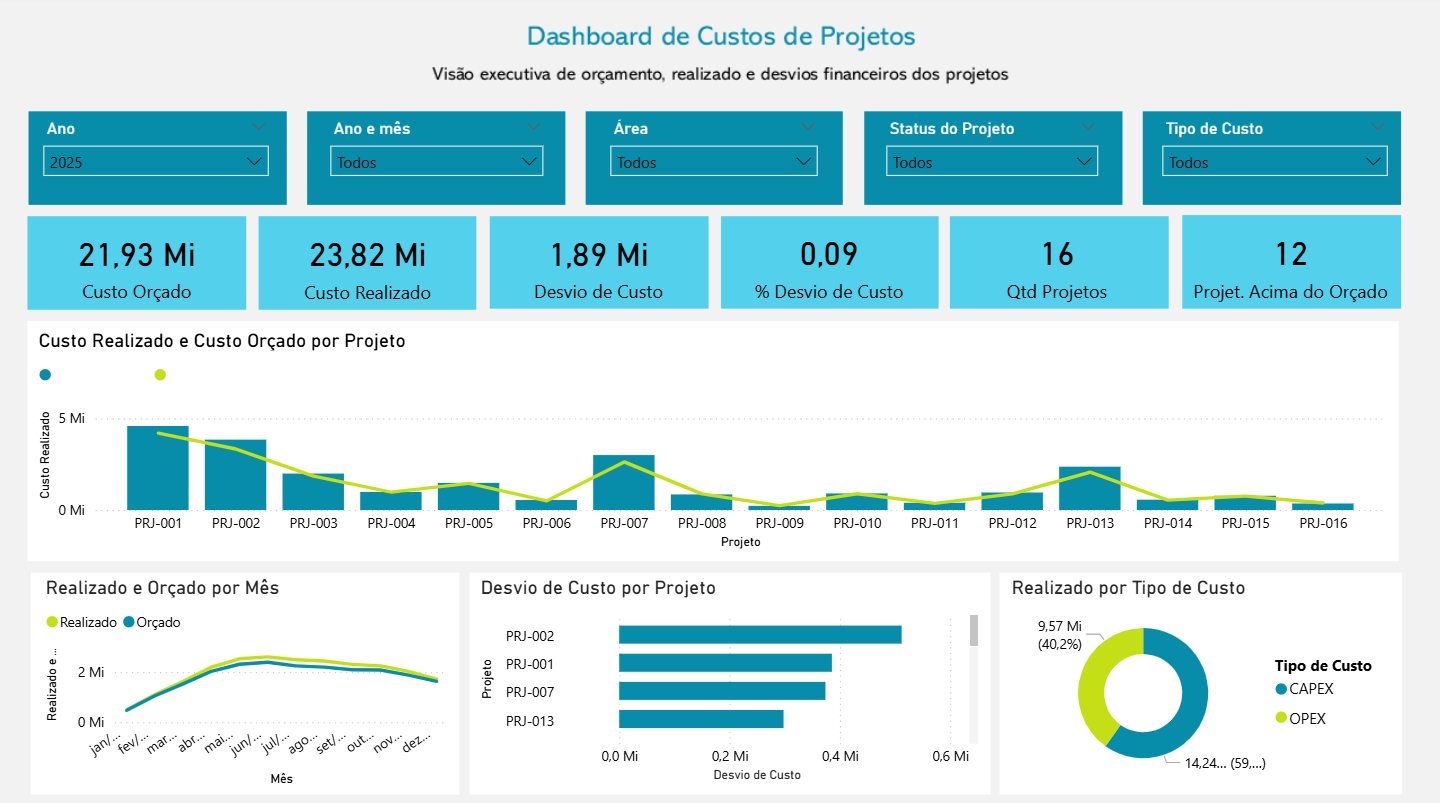

What the dashboard file says about the page in this screenshot:
{"tool":"powerbi","page":{"name":"Visão Executiva","canvas":[1280,720],"ordinal":0},"visuals":[{"type":"slicer","fields":{"Values":["D_Calendario.AnoMesTexto"]},"box":[284,105,209.1,77.8],"z":0},{"type":"slicer","fields":{"Values":["D_Calendario.Ano"]},"box":[29.2,105,219.8,77.8],"z":1000},{"type":"slicer","fields":{"Values":["tblF_Custos_Projetos.Area"]},"box":[532,105,204.3,74.9],"z":2000},{"type":"slicer","fields":{"Values":["tblF_Custos_Projetos.Status_Projeto"]},"box":[777.1,105,208.1,77.8],"z":3000},{"type":"slicer","fields":{"Values":["tblF_Custos_Projetos.Tipo_Custo"]},"box":[1021.3,105,219.8,74.9],"z":4000},{"type":"lineStackedColumnComboChart","fields":{"Y":["tblF_Custos_Projetos.Custo Realizado"],"Y2":["tblF_Custos_Projetos.Custo Orçado"],"Category":["tblF_Custos_Projetos.ID_Projeto"]},"box":[30.1,295.3,1204.1,199.5],"z":5000},{"type":"lineChart","fields":{"Y":["tblF_Custos_Projetos.Custo Realizado","tblF_Custos_Projetos.Custo Orçado"],"Category":["D_Calendario.AnoMesTexto"]},"box":[36,514.5,366.7,190.6],"z":6000},{"type":"barChart","fields":{"Category":["tblF_Custos_Projetos.ID_Projeto"],"Y":["tblF_Custos_Projetos.Desvio de Custo"]},"box":[422.1,514.5,451.3,186.7],"z":7000},{"type":"donutChart","fields":{"Category":["tblF_Custos_Projetos.Tipo_Custo"],"Y":["tblF_Custos_Projetos.Custo Realizado"]},"box":[892.9,514.5,347.2,186.7],"z":8000},{"type":"card","fields":{"Values":["tblF_Custos_Projetos.Custo Orçado"]},"box":[29.2,197.4,185.8,79.8],"z":9000},{"type":"card","fields":{"Values":["tblF_Custos_Projetos.Desvio de Custo"]},"box":[442.5,197.7,178.2,79.8],"z":10000},{"type":"card","fields":{"Values":["tblF_Custos_Projetos.% Desvio de Custo"]},"box":[646.4,197.7,179.1,78.9],"z":11000},{"type":"card","fields":{"Values":["tblF_Custos_Projetos.Custo Realizado"]},"box":[235.4,198.4,183.8,78.8],"z":12000},{"type":"card","fields":{"Values":["tblD_Projetos.Projetos Acima do Orçamento"]},"box":[1051.6,197.7,187.1,78.9],"z":13000},{"type":"card","fields":{"Values":["D_Calendario.Qtd Projetos"]},"box":[845.9,197.7,184.4,78.9],"z":14000}]}

Visuals, with their boxes in screenshot pixels (x1, y1, x2, y2), scaled from the page's 1280x720 canvas onto the 1440x803 screenshot:
slicer - D_Calendario.AnoMesTexto: 320, 117, 555, 204
slicer - D_Calendario.Ano: 33, 117, 280, 204
slicer - tblF_Custos_Projetos.Area: 598, 117, 828, 201
slicer - tblF_Custos_Projetos.Status_Projeto: 874, 117, 1108, 204
slicer - tblF_Custos_Projetos.Tipo_Custo: 1149, 117, 1396, 201
lineStackedColumnComboChart - tblF_Custos_Projetos.Custo Realizado x tblF_Custos_Projetos.Custo Orçado: 34, 329, 1388, 552
lineChart - tblF_Custos_Projetos.Custo Realizado x tblF_Custos_Projetos.Custo Orçado: 40, 574, 453, 786
barChart - tblF_Custos_Projetos.ID_Projeto x tblF_Custos_Projetos.Desvio de Custo: 475, 574, 983, 782
donutChart - tblF_Custos_Projetos.Tipo_Custo x tblF_Custos_Projetos.Custo Realizado: 1005, 574, 1395, 782
card - tblF_Custos_Projetos.Custo Orçado: 33, 220, 242, 309
card - tblF_Custos_Projetos.Desvio de Custo: 498, 220, 698, 309
card - tblF_Custos_Projetos.% Desvio de Custo: 727, 220, 929, 308
card - tblF_Custos_Projetos.Custo Realizado: 265, 221, 472, 309
card - tblD_Projetos.Projetos Acima do Orçamento: 1183, 220, 1394, 308
card - D_Calendario.Qtd Projetos: 952, 220, 1159, 308
